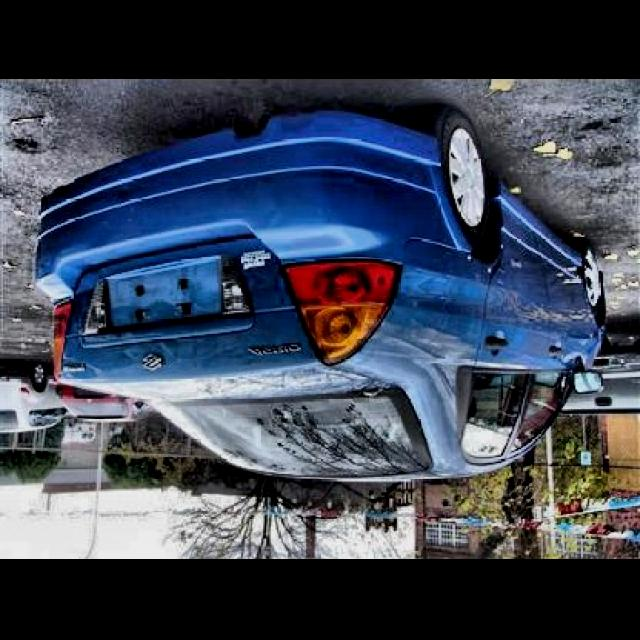blue: (35, 106, 610, 482)
